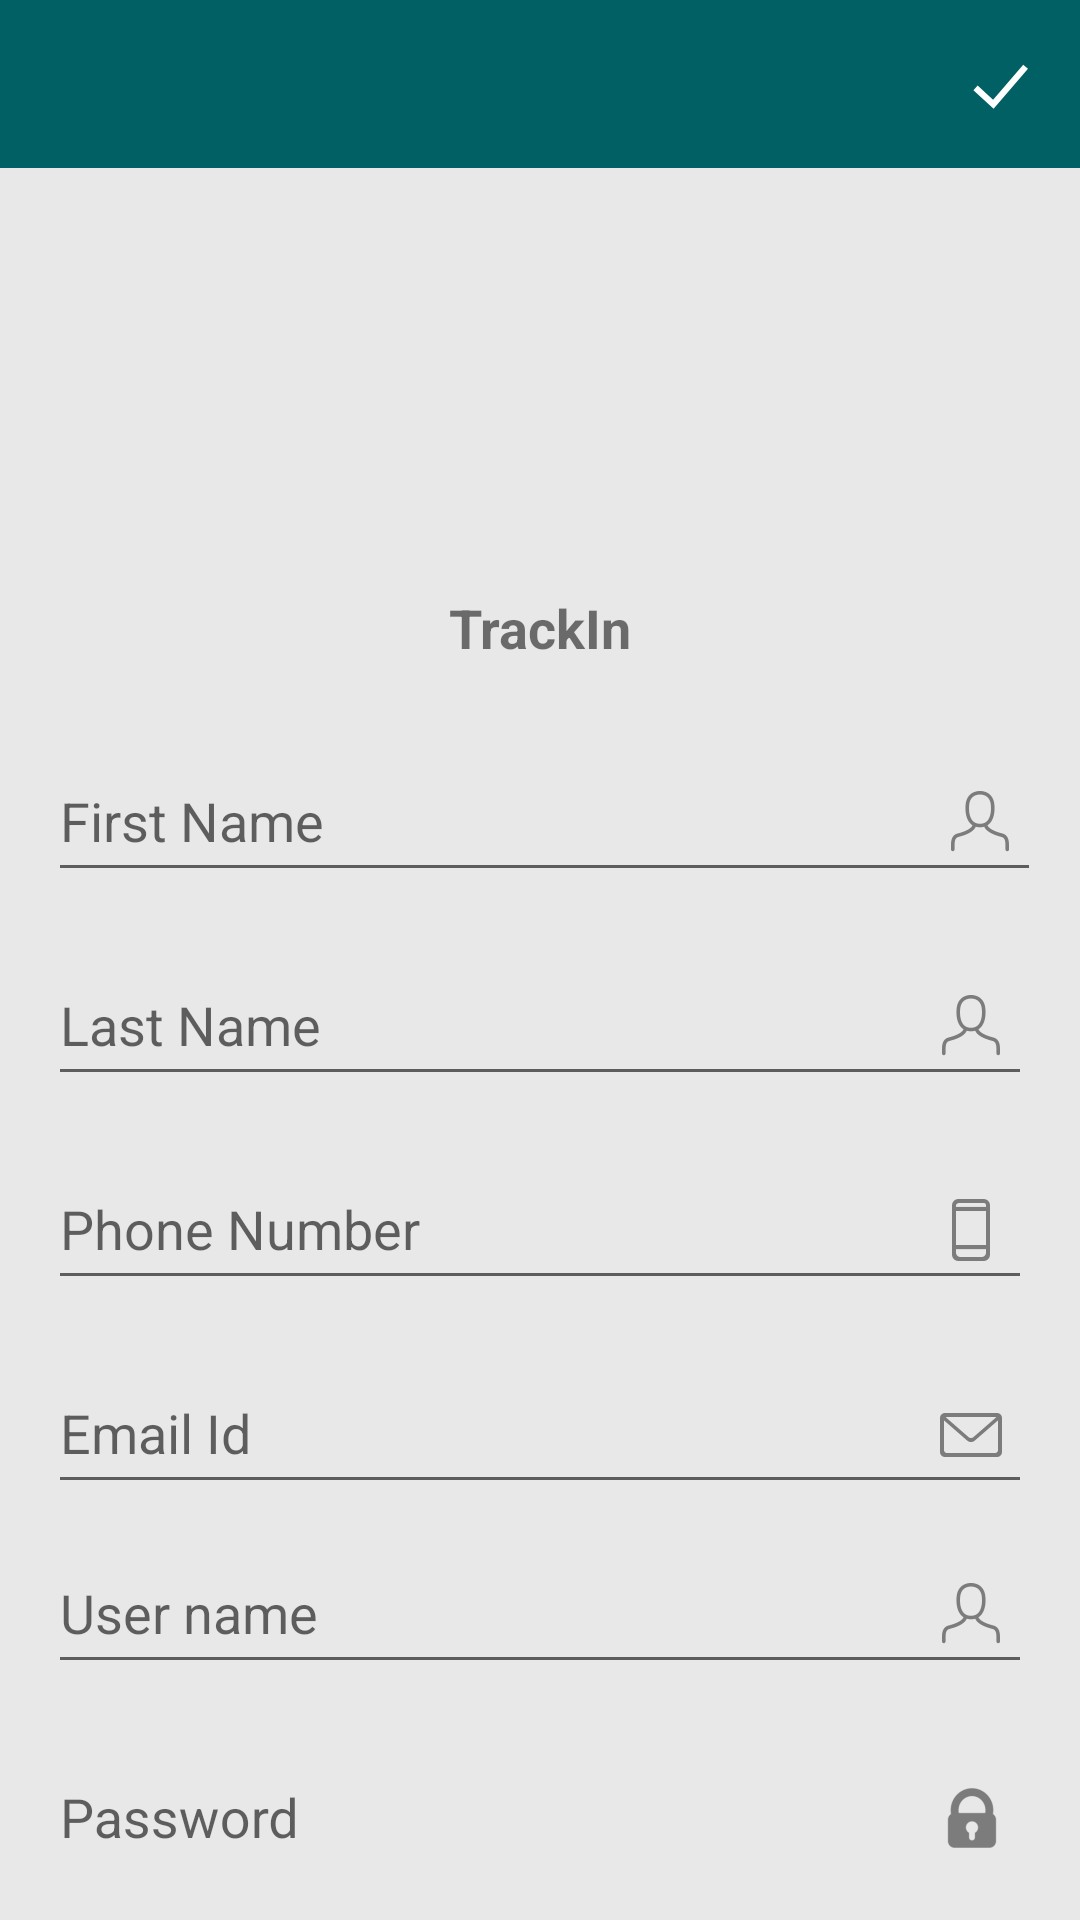

Where icons sit on this 1080 x 1920 app screen, as region(x1, y1, x2, y2):
tick: region(973, 65, 1028, 109)
